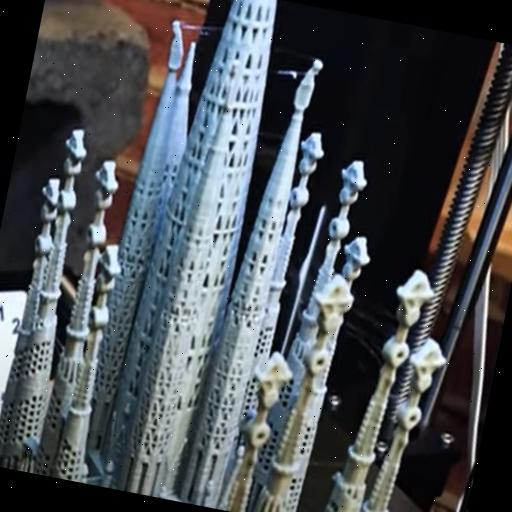stringing: (177, 14, 228, 50), (275, 60, 310, 88)
